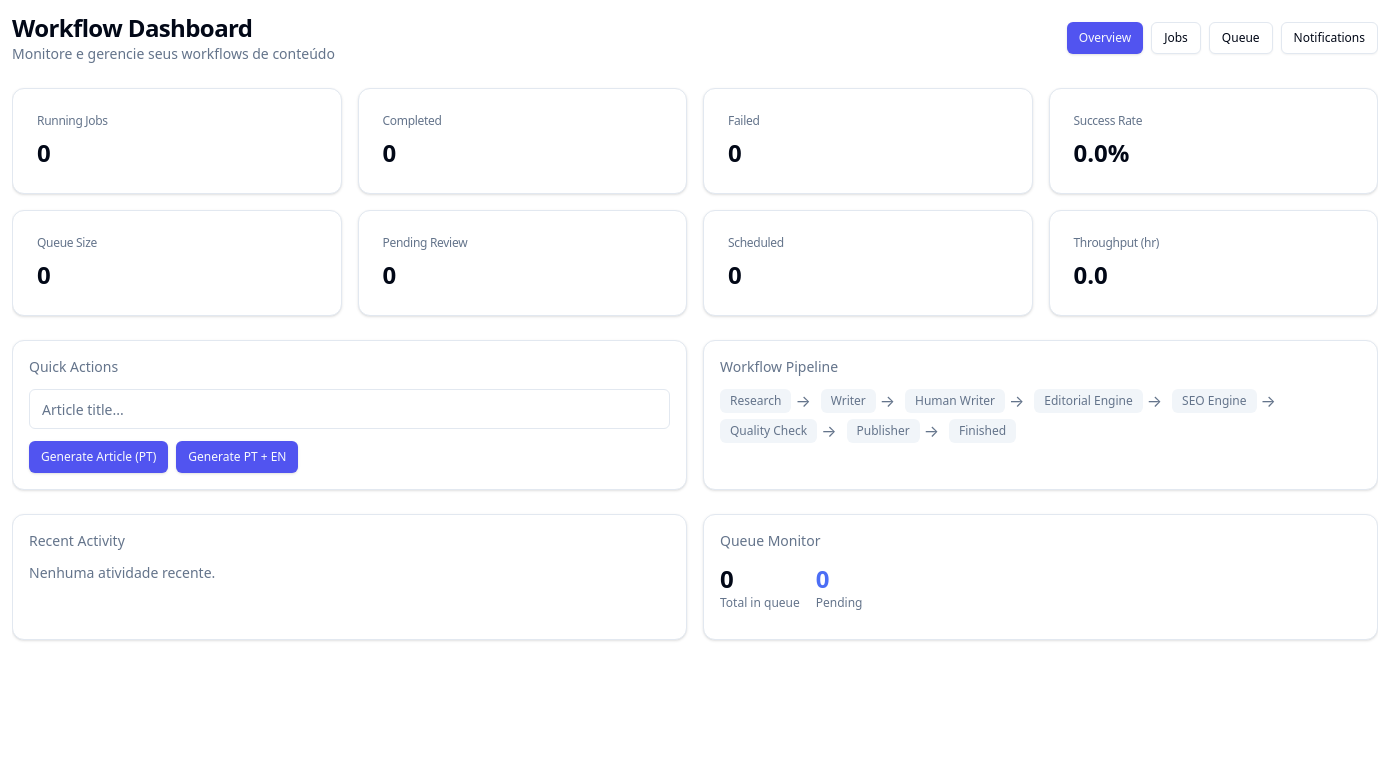
Test: Workflow notifications tab › shows the empty state when there are no notifications
Click the button "Notifications" at (1329, 38), box [1281, 22, 1378, 54]
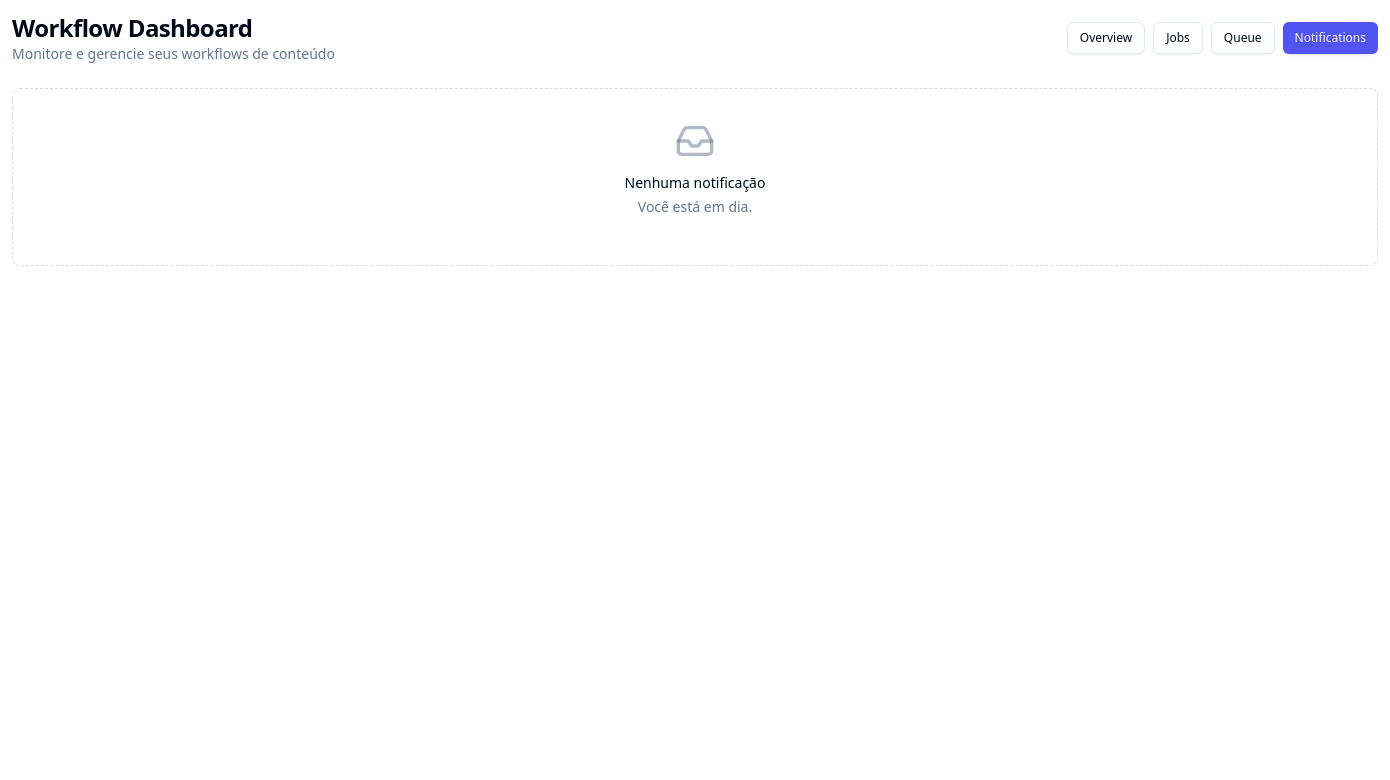
Expected: the heading "Nenhuma notificação" is shown, [624, 173, 765, 193]
